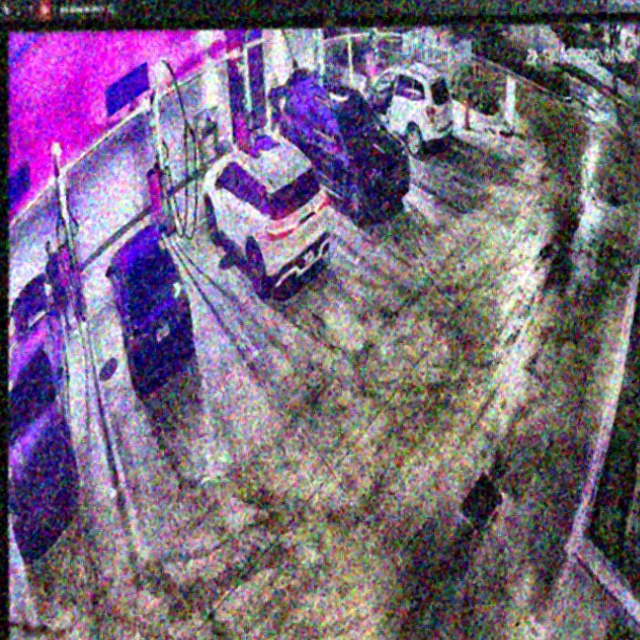Car: (202, 129, 330, 301), (278, 78, 410, 214), (107, 222, 193, 394), (356, 61, 455, 156)
